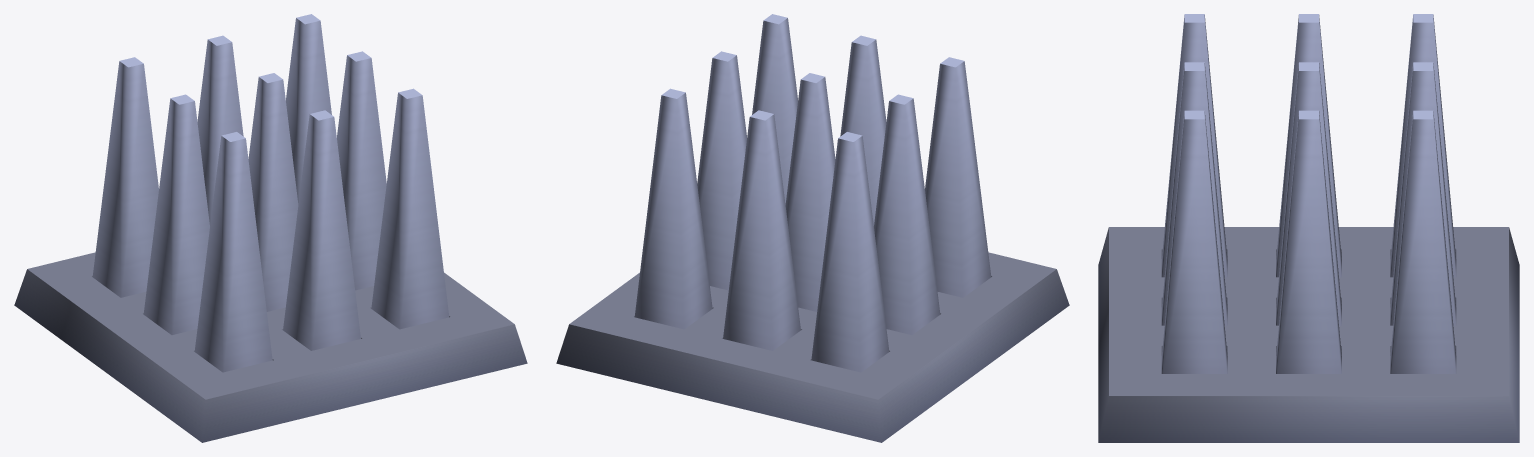
Rendered from trap.glb.
3 views of the same model, side by side, from view 1: azimuth 30°, elevation 25°; view 2: azimuth 150°, elevation 25°; view 3: azimuth 270°, elevation 25° (orthographic). The views are drawn at different scales.
Parts seen in each view (by area): view 1: trap-spikes-large; view 2: trap-spikes-large; view 3: trap-spikes-large.
Boxes of the visible parts, box(x1,y1,x2,y2) form: trap-spikes-large: box(14, 14, 527, 442); trap-spikes-large: box(556, 14, 1069, 442); trap-spikes-large: box(1098, 14, 1519, 442).
Size of the model in its own units: 1.57 by 1.18 by 1.57.
1 material, 1 textured.
